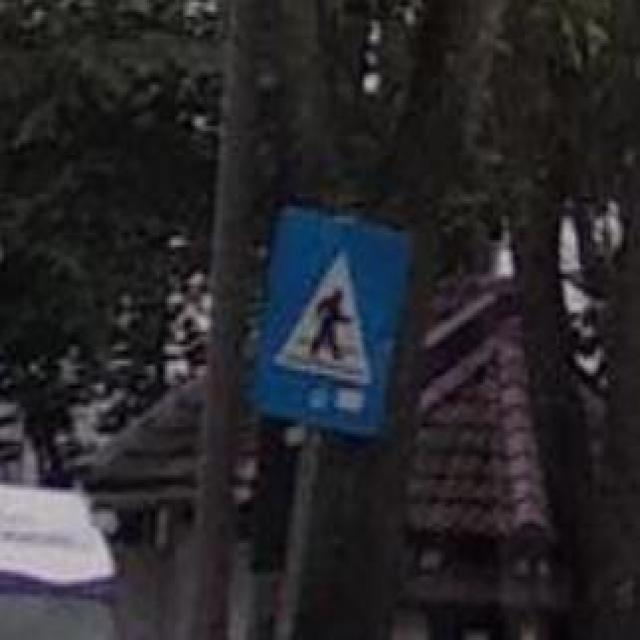traffic sign: (257, 204, 412, 439)
